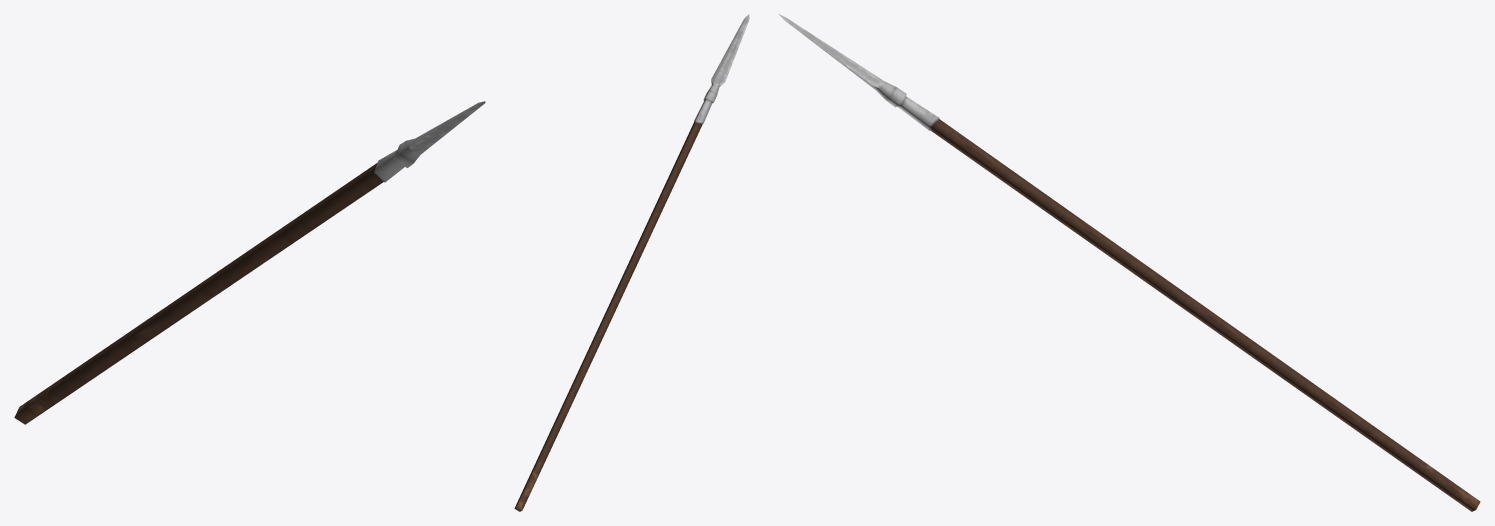
File: rider-spear-slice-copperweapons.glb
The picture shows the model from 3 angles, left to right: view 1: azimuth 30°, elevation 25°; view 2: azimuth 150°, elevation 25°; view 3: azimuth 270°, elevation 25°; orthographic projection. The views are drawn at different scales.
Bounding box in the file's own units: 0.0893 × 2.04 × 2.6.
1 material, 1 textured.
